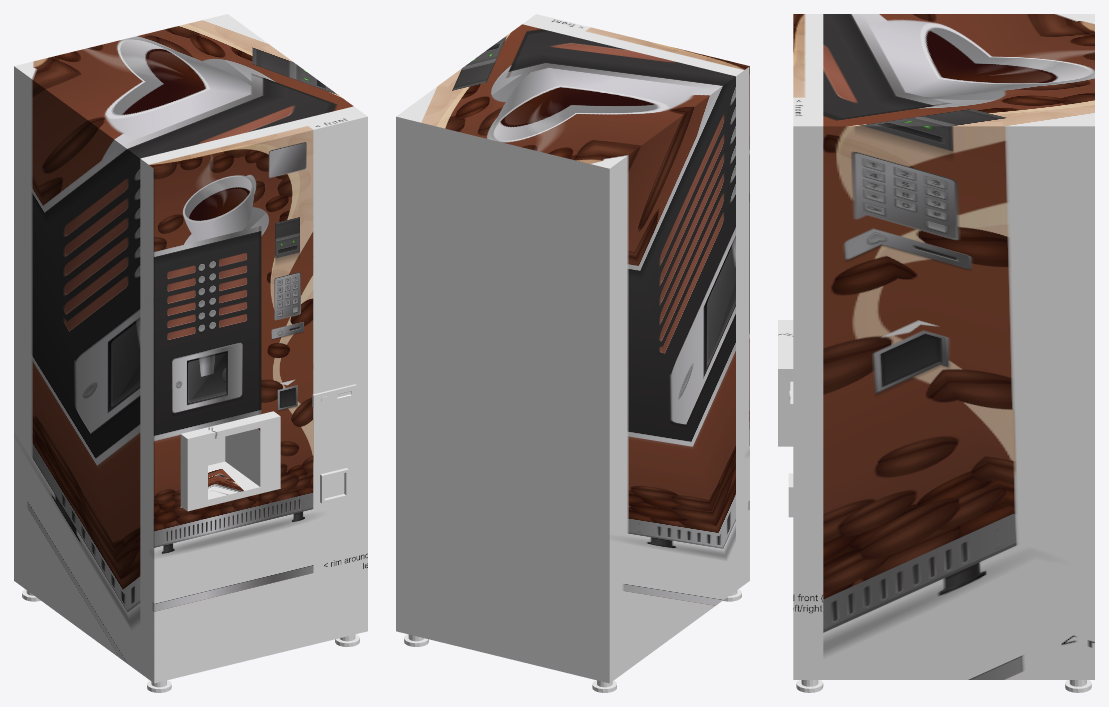
Rendered from coffee.fbx.
3 views of the same model, side by side, from view 1: azimuth 30°, elevation 25°; view 2: azimuth 150°, elevation 25°; view 3: azimuth 270°, elevation 25° (orthographic). The views are drawn at different scales.
Visible parts, largest first — view 1: Coffee; view 2: Coffee; view 3: Coffee.
Boxes of the visible parts, x1,y1,x2,y2 form: Coffee: (14,14,367,692); Coffee: (396,14,749,692); Coffee: (778,14,1094,692).
Bounding box in the file's own units: 176 × 415 × 210.
